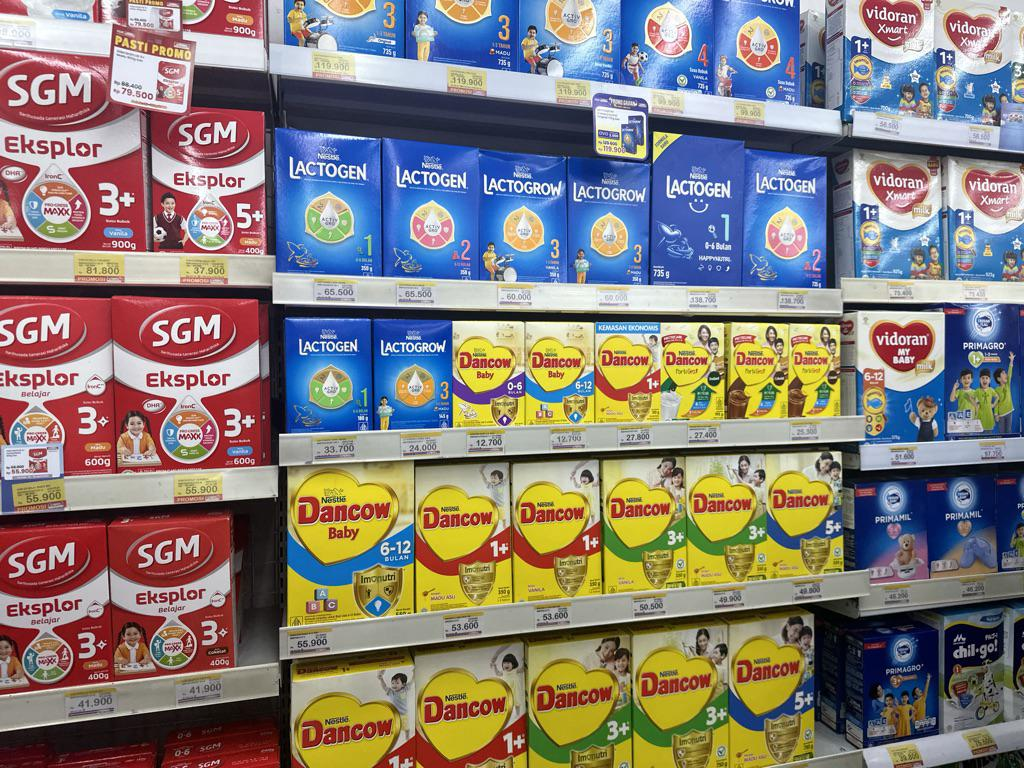DANCOW 1+ Madu Advn ExcNutr 24x400g N1 ID_REDESIGN3: (415, 465, 512, 608)
DANCOW 1+ Madu Advn ExcNutr 40x200g ID_REDESIGN3: (595, 334, 660, 423)
DANCOW 1+ Van Advn ExcNutr 24x400g ID_REDESIGN3: (513, 460, 603, 600)
DANCOW 3+ Madu Advn ExcNutr 24x400g ID_REDESIGN3: (687, 455, 768, 583)
DANCOW 3+ Van Advn ExcNutr 24x400g ID_REDESIGN3: (603, 458, 687, 590)
DANCOW 5+ Madu Advn ExcNutr 12x800g ID_REDESIGN3: (728, 617, 817, 763)
DANCOW 5+ Madu Advn ExcNutr 24x400g ID_REDESIGN3: (767, 451, 845, 575)
LACTOGEN 1 Happynutri 24x350g N1 ID_REDESIGN2: (276, 131, 383, 278)
LACTOGEN 1 Happynutri 40x180g N1 ID_REDESIGN2: (286, 317, 373, 434)
LACTOGEN 2 Happynutri 12x750g N1 ID_REDESIGN2: (740, 152, 828, 289)
LACTOGEN 2 Happynutri 24x350g N1 ID_REDESIGN2: (384, 146, 480, 281)
LACTOGROW 3 Happynutri Honey 24x350g N1 ID_REDESIGN2: (567, 161, 649, 285)
LACTOGROW 3 Happynutri Honey 40x180g N1 ID_REDESIGN2: (372, 317, 451, 428)
LACTOGROW 3 Happynutri Van 24x350g N1 ID_REDESIGN2: (479, 156, 565, 282)
